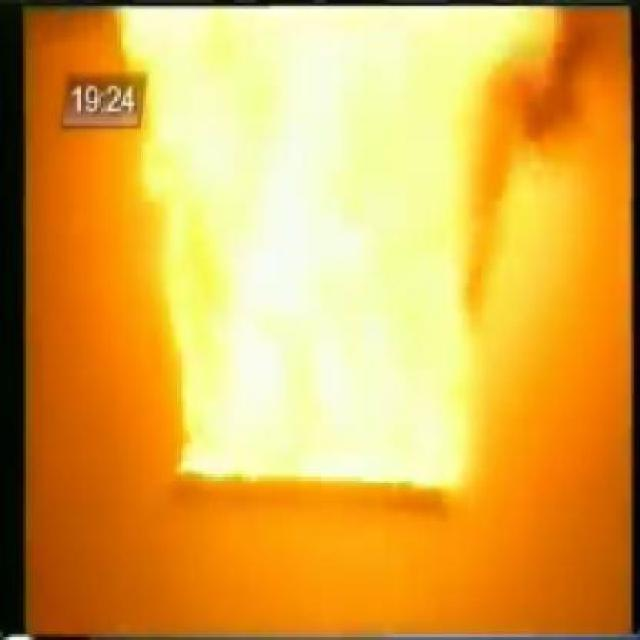smoke: (115, 0, 558, 494)
